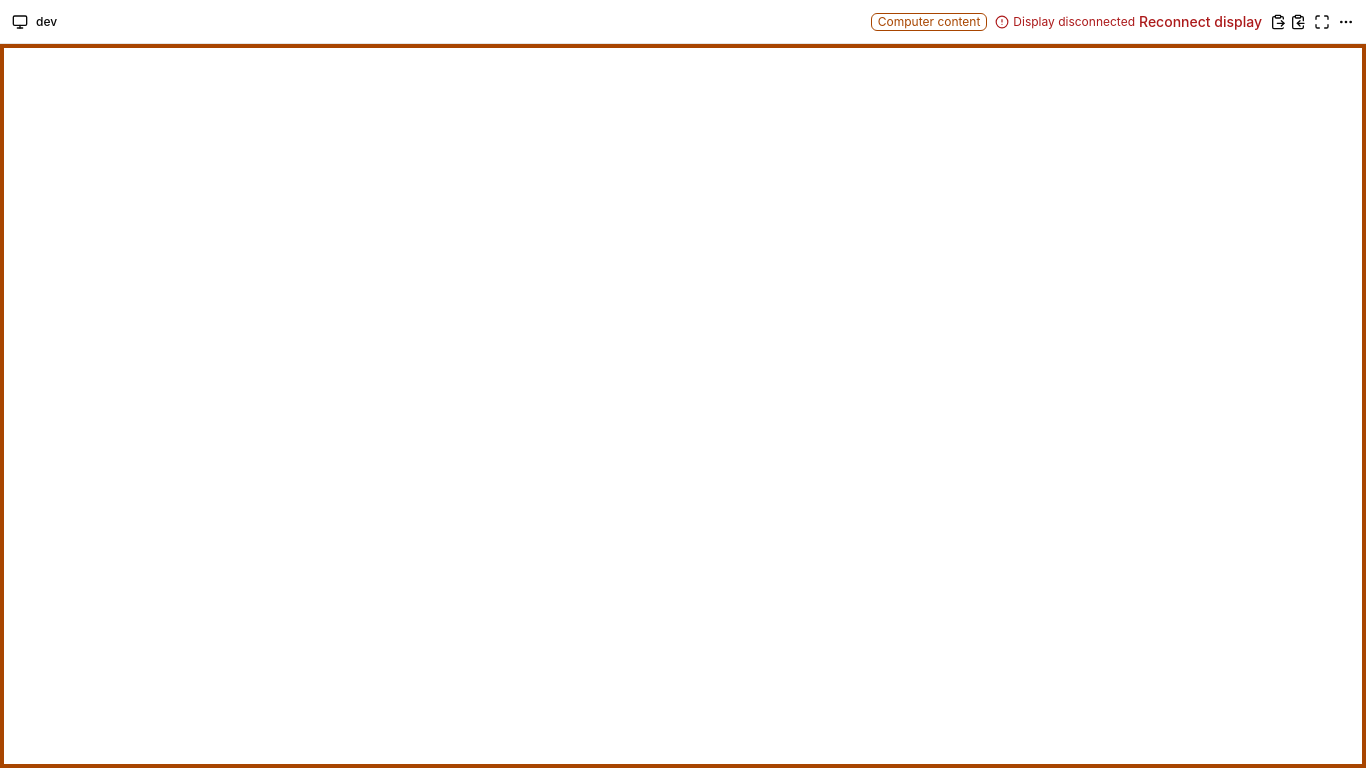
Scenario: recovers a failed stream without restarting the live desktop session
Expected: the message shows "Display disconnected", [1013,14,1135,28]
Click the button "Reconnect display" at (1200, 22), box [1139,12,1262,32]
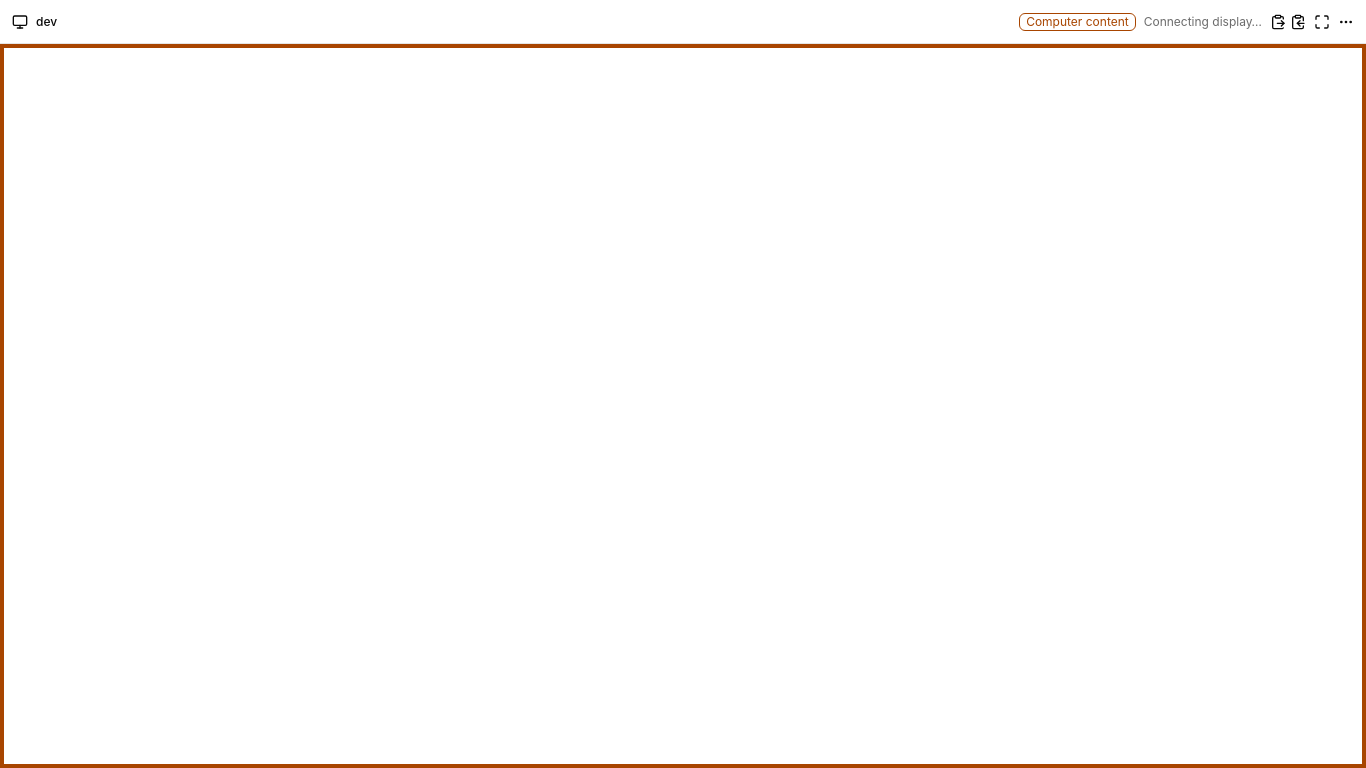
Expected: the message shows "Connecting display", [1144,14,1262,28]
